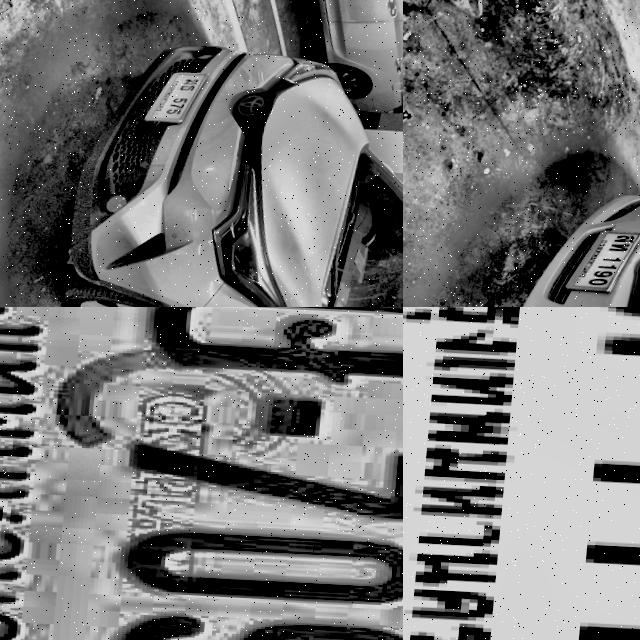license-plate: (0, 307, 403, 640), (403, 307, 640, 640), (566, 223, 640, 292), (145, 66, 213, 123)
